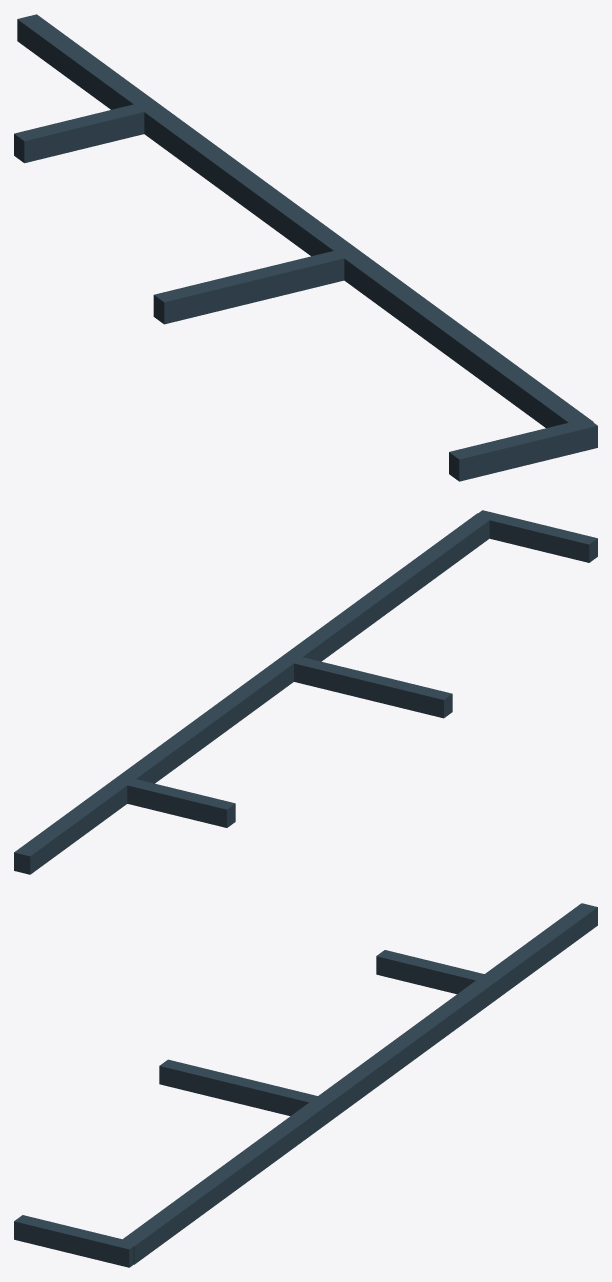
File: v02-transit-world-03-03-03.glb
3 views of the same model, one above another, from view 1: azimuth 30°, elevation 25°; view 2: azimuth 150°, elevation 25°; view 3: azimuth 330°, elevation 25° (orthographic). The views are drawn at different scales.
Parts seen in each view (by area): view 1: v02-transit-world-03-03-03; view 2: v02-transit-world-03-03-03; view 3: v02-transit-world-03-03-03.
Part boxes in pixels (x1,y1,x2,y2): v02-transit-world-03-03-03: [14, 14, 597, 481]; v02-transit-world-03-03-03: [14, 510, 597, 874]; v02-transit-world-03-03-03: [14, 903, 597, 1267].
Size of the model in its own units: 13.25 by 1.4 by 64.59.
